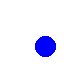circle: (35, 36, 55, 56)
